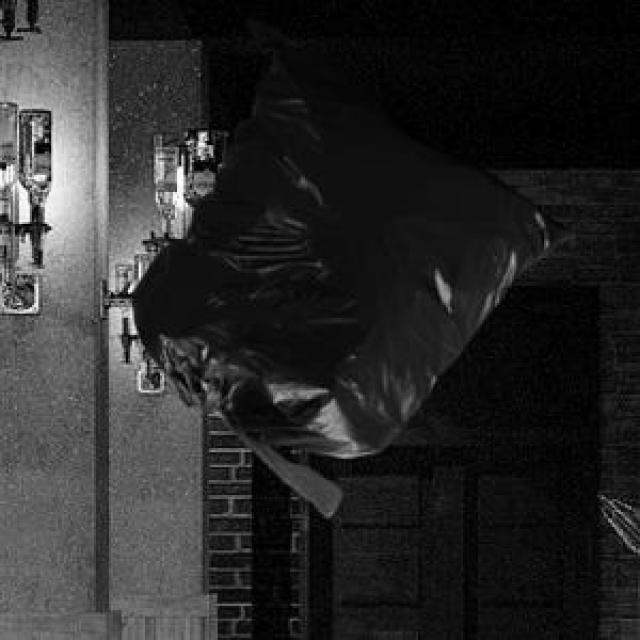miscellaneous trash: (128, 15, 572, 512)
